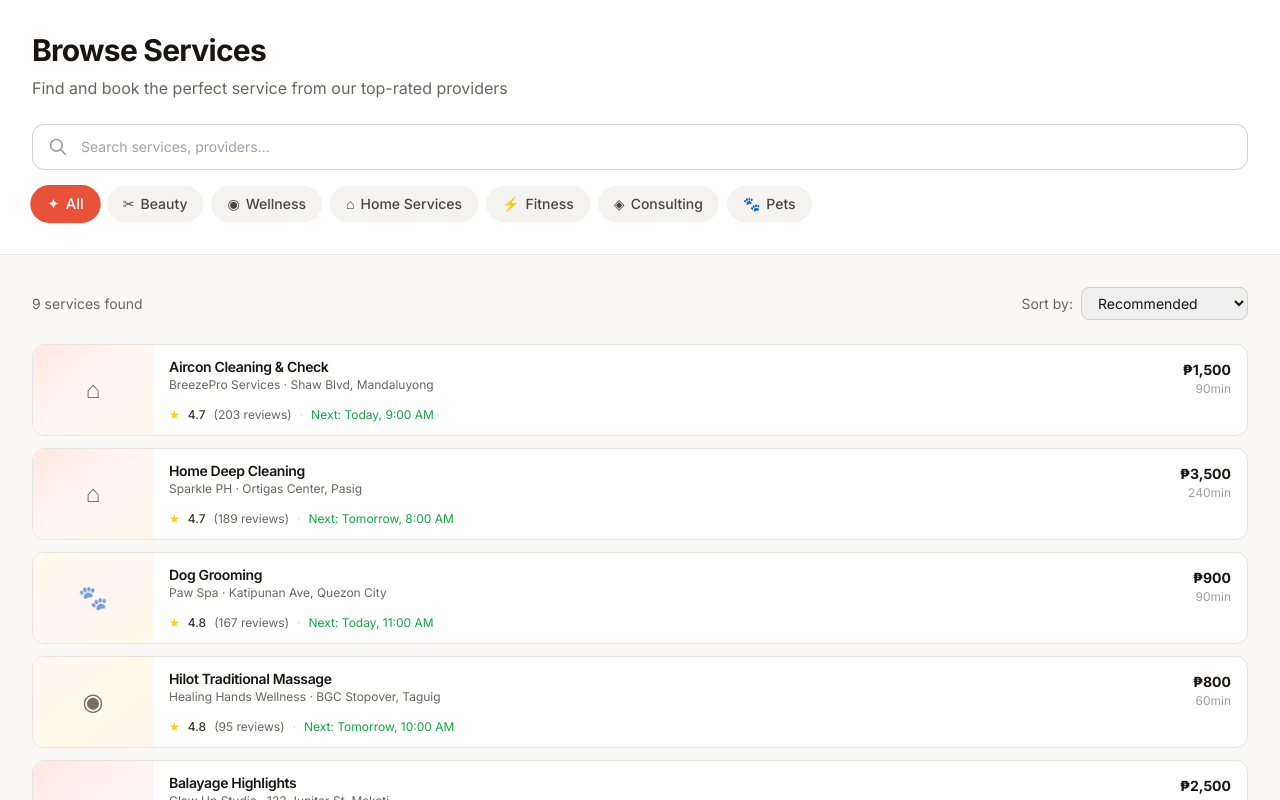
Test: Services Page › empty state shown when no match
Expected: the heading "Balayage Highlights" is shown, top-left (169, 774), bottom-right (296, 791)
In the field with placeholder "Search services, providers...": (640,147) top-left (32, 124), bottom-right (1248, 170), type "xyznonexistent"
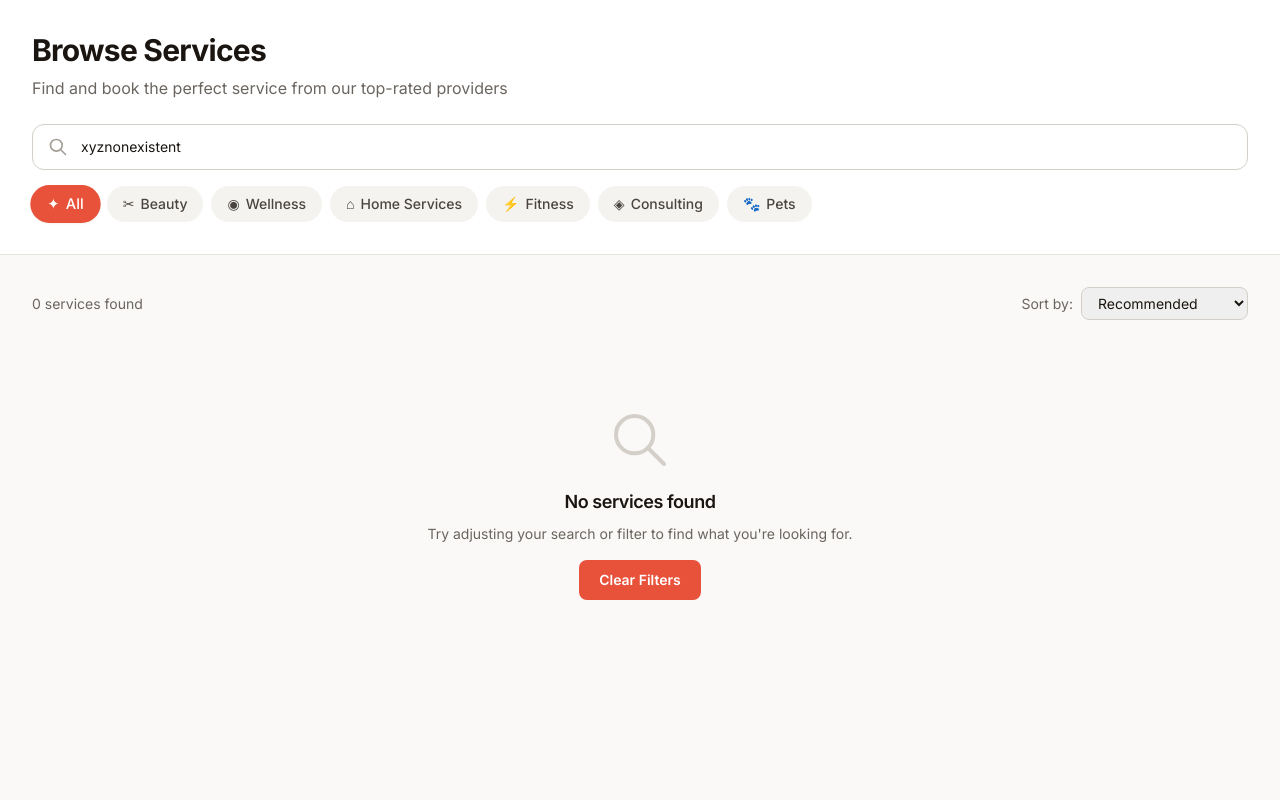
Result: the heading "No services found" is shown at top-left (564, 491), bottom-right (716, 512)
